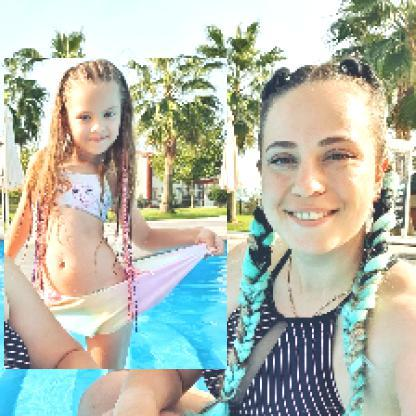child: (5, 60, 229, 372)
